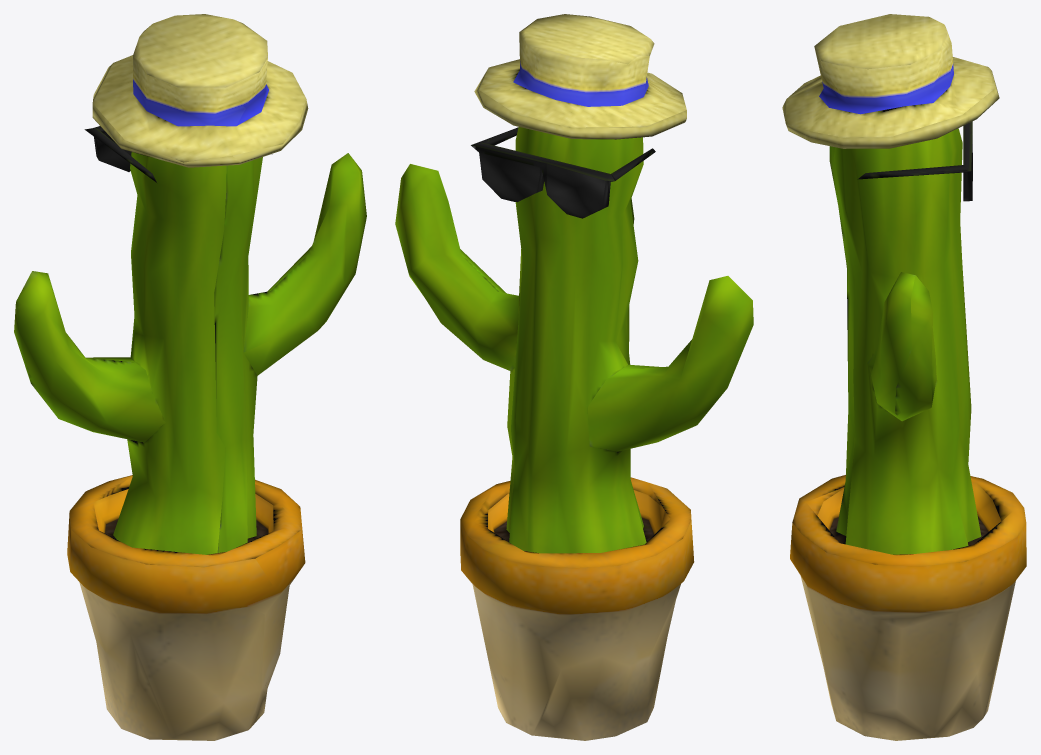
File: Paintable_Cactus_LOD0.fbx
3 views of the same model, side by side, from view 1: azimuth 30°, elevation 25°; view 2: azimuth 150°, elevation 25°; view 3: azimuth 270°, elevation 25° (orthographic).
Parts seen in each view (by area): view 1: Paintable_Cactus_LOD0; view 2: Paintable_Cactus_LOD0; view 3: Paintable_Cactus_LOD0.
Part boxes in pixels (bbox=[...]): Paintable_Cactus_LOD0: bbox=[14, 14, 366, 740]; Paintable_Cactus_LOD0: bbox=[395, 14, 753, 740]; Paintable_Cactus_LOD0: bbox=[782, 14, 1026, 740].
Bounding box in the file's own units: 0.7559 × 0.4487 × 1.37.
